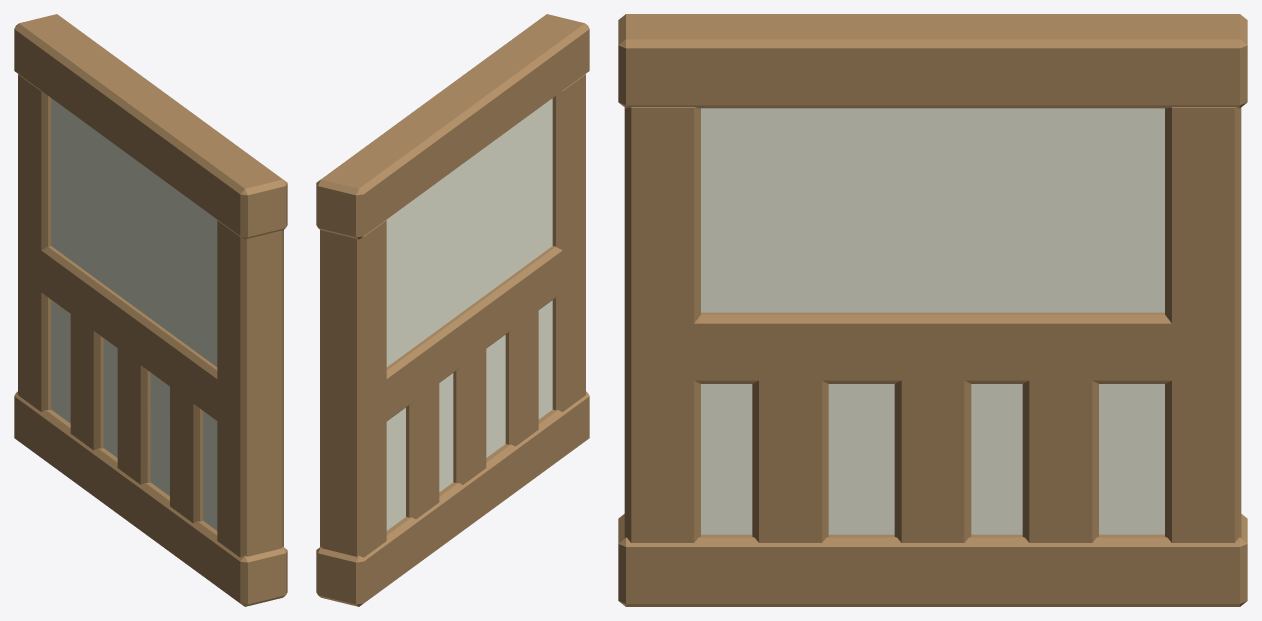
The model's file is BaseWall_3.fbx.
The picture shows the model from 3 angles, left to right: view 1: azimuth 30°, elevation 25°; view 2: azimuth 150°, elevation 25°; view 3: azimuth 270°, elevation 25°; orthographic projection. The views are drawn at different scales.
Parts seen in each view (by area): view 1: BaseWall.003; view 2: BaseWall.003; view 3: BaseWall.003.
Boxes of the visible parts, bbox=[...] form: BaseWall.003: bbox=[14, 14, 287, 606]; BaseWall.003: bbox=[316, 14, 589, 606]; BaseWall.003: bbox=[618, 14, 1247, 606].
Bounding box in the file's own units: 0.2753 × 2.32 × 2.33.
